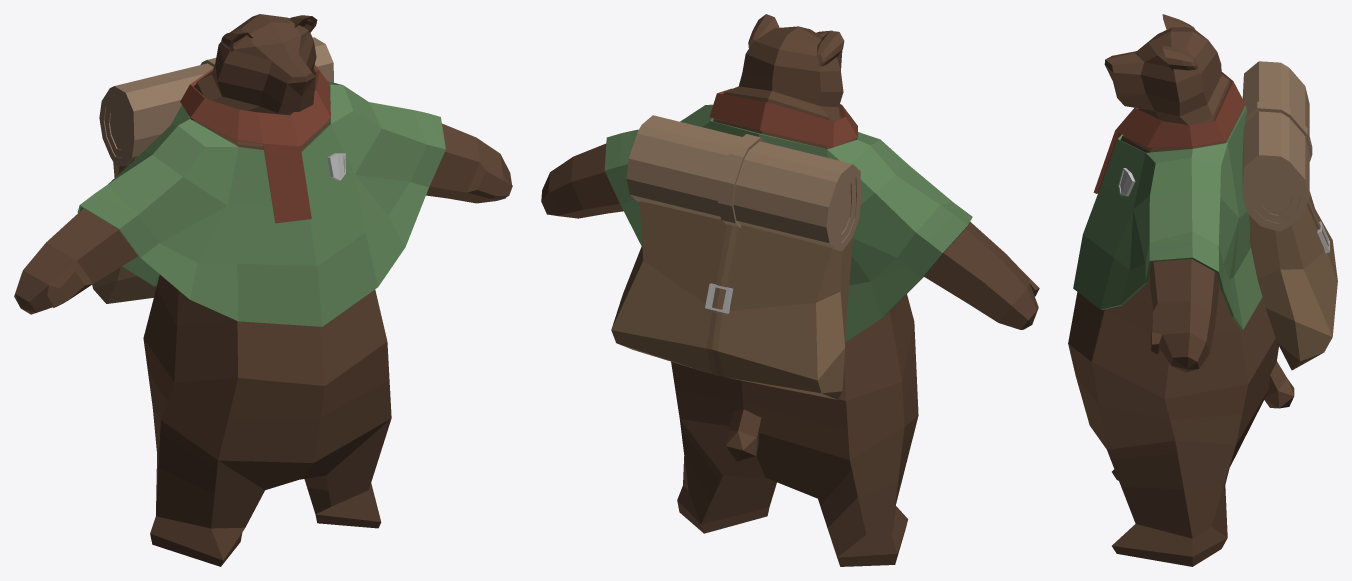
Rendered from Azim-Character-Model.fbx.
3 renders of one model, left to right at view 1: azimuth 30°, elevation 25°; view 2: azimuth 150°, elevation 25°; view 3: azimuth 270°, elevation 25°, orthographic. The views are drawn at different scales.
Parts seen in each view (by area): view 1: Body, Coat, Scarf, Tent, Backpack-Base, Ears; view 2: Body, Backpack-Base, Tent, Coat, Scarf, Tail, Ears; view 3: Body, Coat, Tent, Backpack-Base, Scarf, Tail, Ears, Badge.
Part boxes in pixels (bbox=[...]): Body: bbox=[14, 14, 512, 566]; Coat: bbox=[77, 81, 445, 326]; Scarf: bbox=[180, 65, 330, 223]; Tent: bbox=[99, 37, 333, 166]; Backpack-Base: bbox=[92, 157, 156, 303]; Ears: bbox=[221, 15, 317, 52]; Body: bbox=[541, 26, 1039, 566]; Backpack-Base: bbox=[611, 201, 853, 399]; Tent: bbox=[626, 115, 861, 251]; Coat: bbox=[604, 104, 972, 341]; Scarf: bbox=[709, 88, 857, 147]; Tail: bbox=[725, 409, 761, 461]; Ears: bbox=[748, 14, 844, 66]; Body: bbox=[1068, 27, 1278, 566]; Coat: bbox=[1073, 106, 1262, 330]; Tent: bbox=[1242, 61, 1312, 231]; Backpack-Base: bbox=[1249, 191, 1337, 370]; Scarf: bbox=[1093, 72, 1245, 193]; Tail: bbox=[1264, 361, 1294, 408]; Ears: bbox=[1162, 14, 1198, 70]; Badge: bbox=[1118, 168, 1135, 196].
Bounding box in the file's own units: 430 × 419 × 211.
